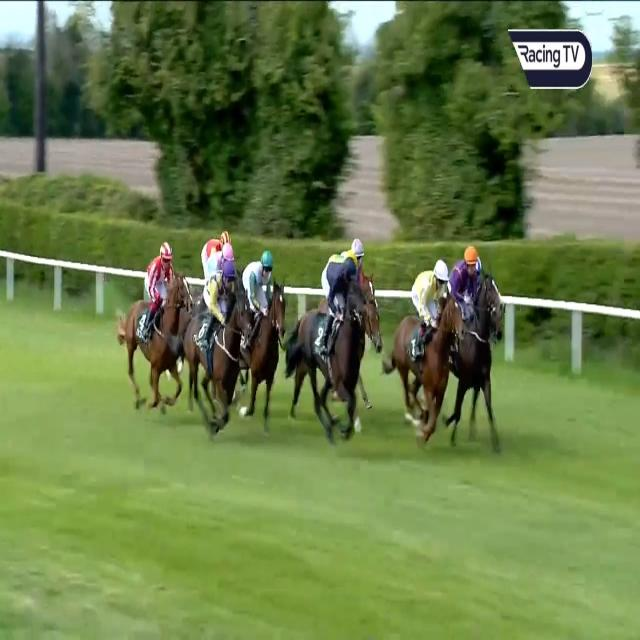horses-racing: (394, 252, 465, 441), (293, 264, 362, 430), (121, 242, 190, 402), (454, 240, 511, 431), (187, 269, 244, 440), (240, 248, 286, 417), (193, 220, 234, 272), (328, 231, 371, 266), (203, 244, 239, 282), (316, 250, 364, 274)
